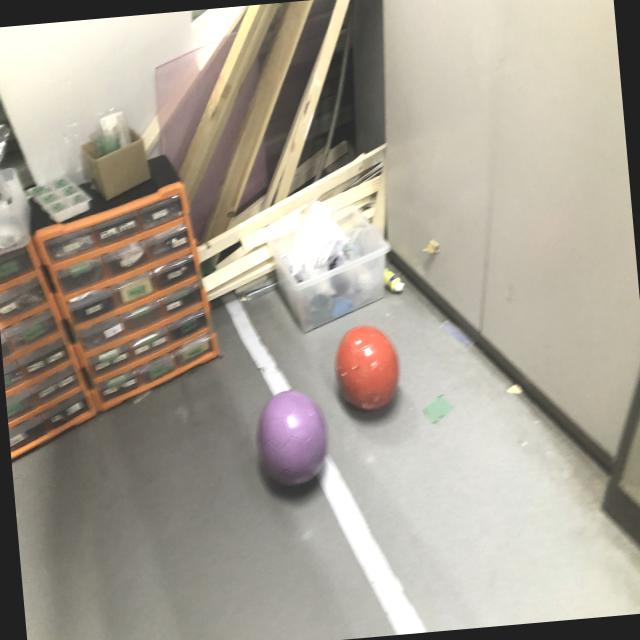purple_ball: (251, 384, 331, 488)
red_ball: (332, 326, 403, 416)
